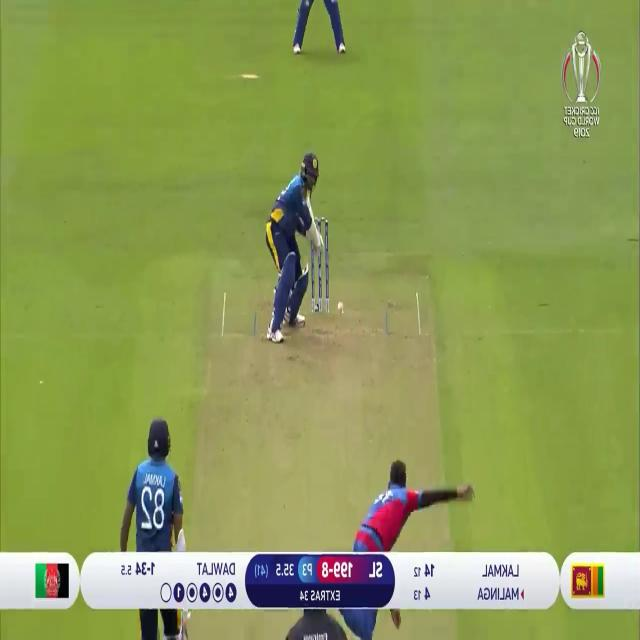ball: (336, 300, 344, 313)
